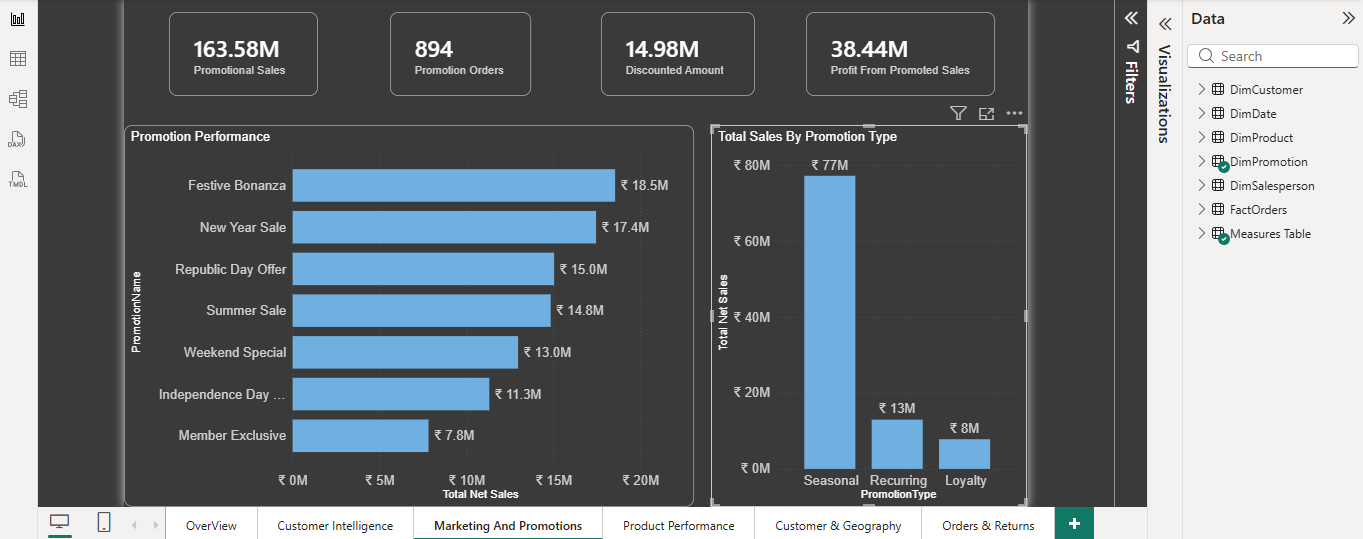

This screenshot's page, from the dashboard's own definition file:
{"tool":"powerbi","page":{"name":"Marketing And Promotions","canvas":[1280,720],"ordinal":2},"visuals":[{"type":"cardVisual","fields":{"Data":["Measures Table.Promotional Sales"]},"box":[63.8,18.4,211.2,119.1],"z":0},{"type":"cardVisual","fields":{"Data":["Measures Table.Promotion Orders"]},"box":[377,18.4,199.8,119.1],"z":1000},{"type":"cardVisual","fields":{"Data":["Measures Table.Discounted Amount"]},"box":[676.1,18.4,218.3,119.1],"z":2000},{"type":"cardVisual","fields":{"Data":["Measures Table.Profit From Promoted Sales"]},"box":[966.6,18.4,267.9,119.1],"z":3000},{"type":"clusteredBarChart","title":"Promotion Performance","fields":{"Category":["DimPromotion.PromotionName"],"Y":["Measures Table.Total Net Sales"]},"box":[0,178.6,807.9,362.8],"z":4000},{"type":"columnChart","title":"Total Sales By Promotion Type","fields":{"Category":["DimPromotion.PromotionType"],"Y":["Measures Table.Total Net Sales"]},"box":[832,178.6,447.9,362.8],"z":5000}]}

Visuals, with their boxes on the page's 1280x720 design canvas (x1, y1, x2, y2). These are canvas units, not pixel positions in the 1363x539 screenshot, which may show the page scaled, cropped or inside an application window:
cardVisual - Measures Table.Promotional Sales: 64, 18, 275, 138
cardVisual - Measures Table.Promotion Orders: 377, 18, 577, 138
cardVisual - Measures Table.Discounted Amount: 676, 18, 894, 138
cardVisual - Measures Table.Profit From Promoted Sales: 967, 18, 1234, 138
"Promotion Performance" clusteredBarChart: 0, 179, 808, 541
"Total Sales By Promotion Type" columnChart: 832, 179, 1280, 541
